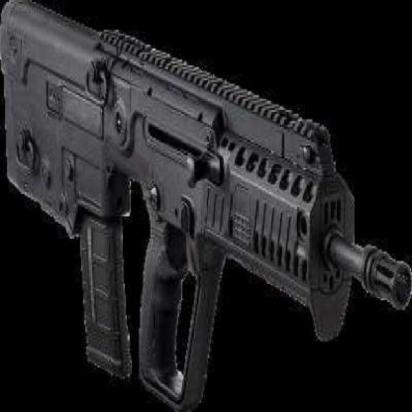Gun: (2, 0, 412, 407)
